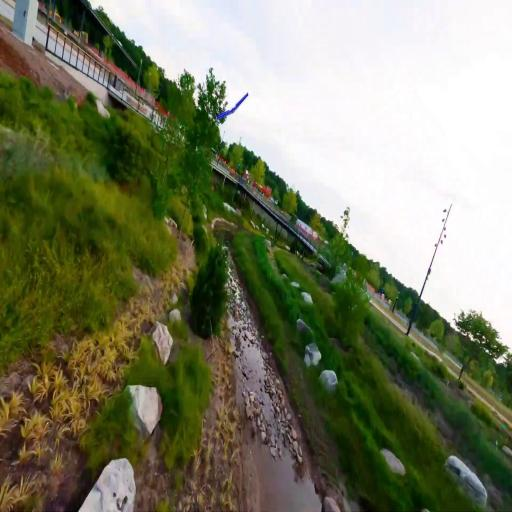uav: (215, 91, 249, 124)
